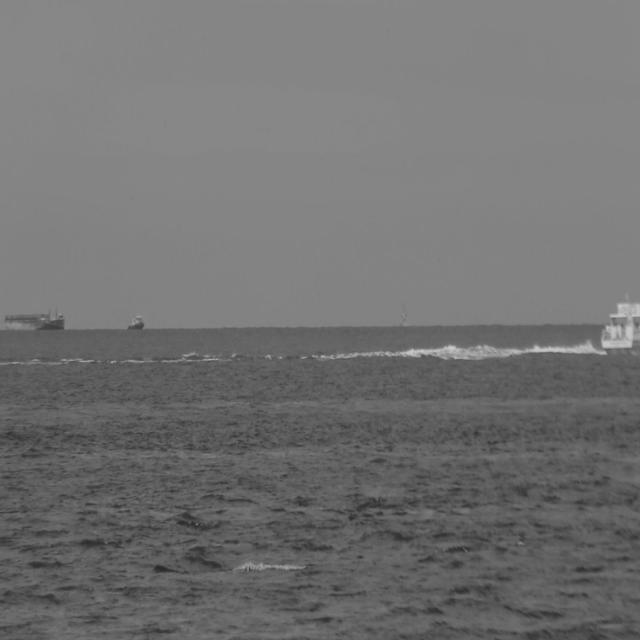ship: (600, 297, 639, 363), (1, 301, 62, 327)
